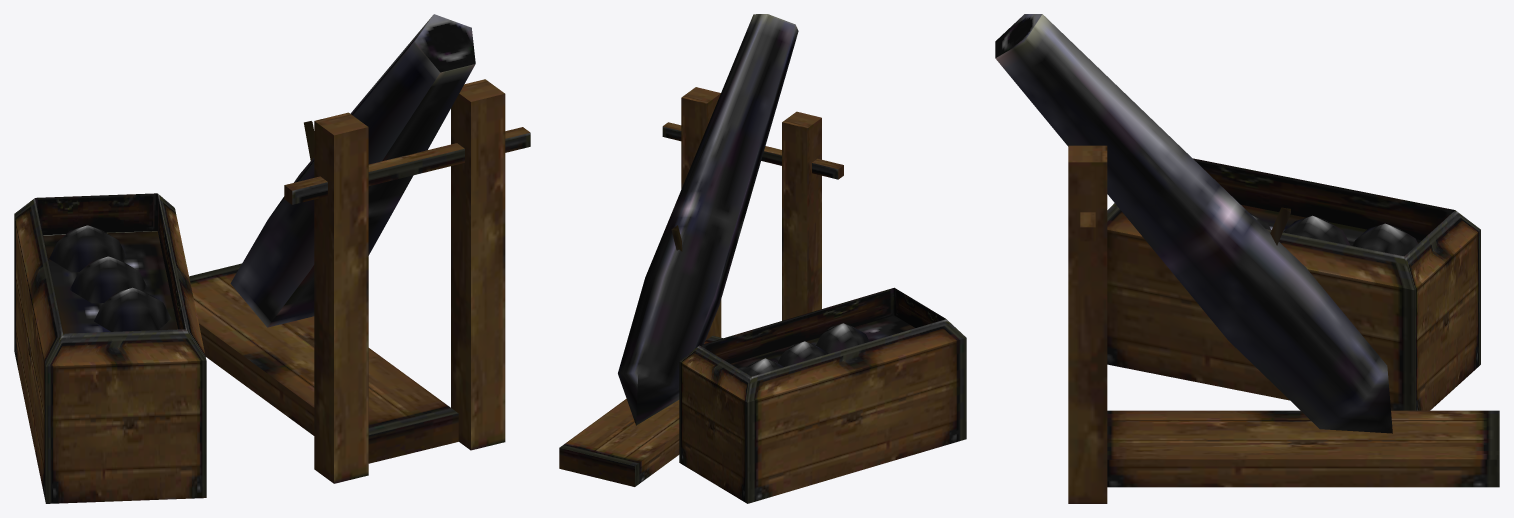
The picture shows the model from 3 angles, left to right: view 1: azimuth 30°, elevation 25°; view 2: azimuth 150°, elevation 25°; view 3: azimuth 270°, elevation 25°; orthographic projection. The views are drawn at different scales.
Visible parts, largest first — view 1: Cannon02; view 2: Cannon02; view 3: Cannon02.
Part boxes in pixels (x1,y1,x2,y2): Cannon02: [14, 14, 530, 503]; Cannon02: [559, 14, 966, 503]; Cannon02: [995, 14, 1499, 503].
Size of the model in its own units: 135 by 133 by 136.
